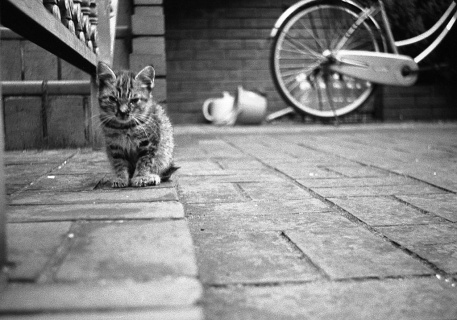Cat: (81, 57, 175, 185)
